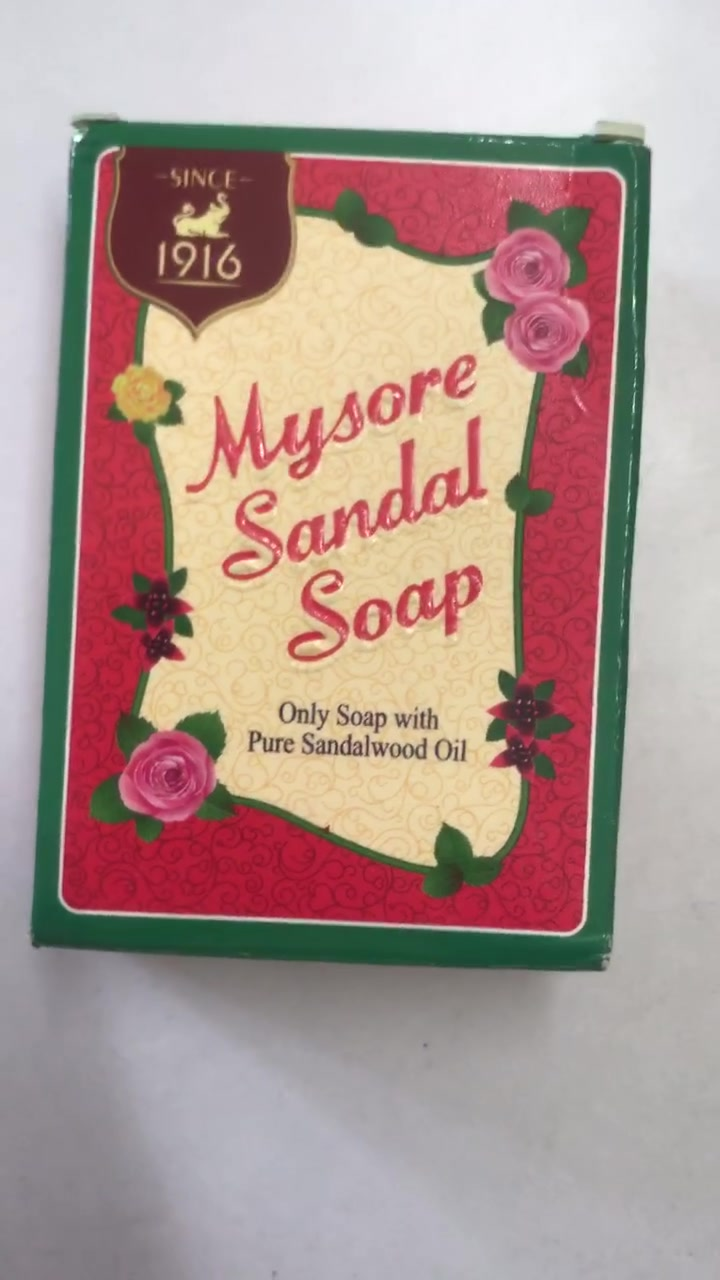mysore sandal soap: (37, 125, 631, 977)
